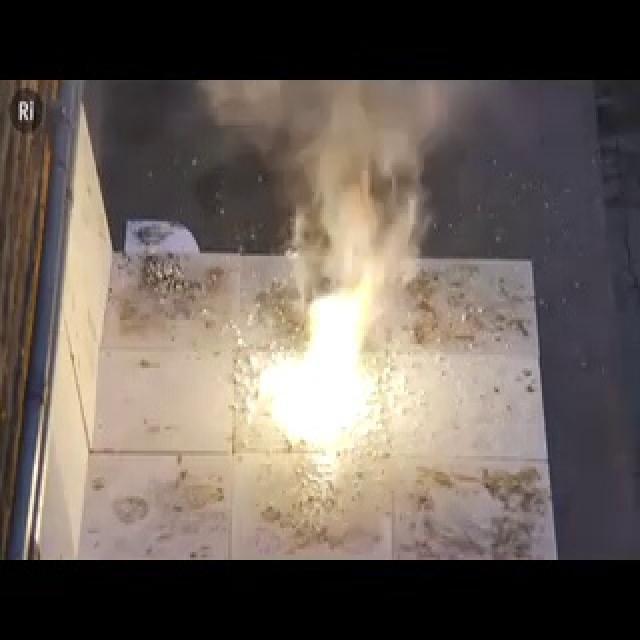Fire: (267, 256, 391, 459)
Smoke: (196, 79, 457, 250)
